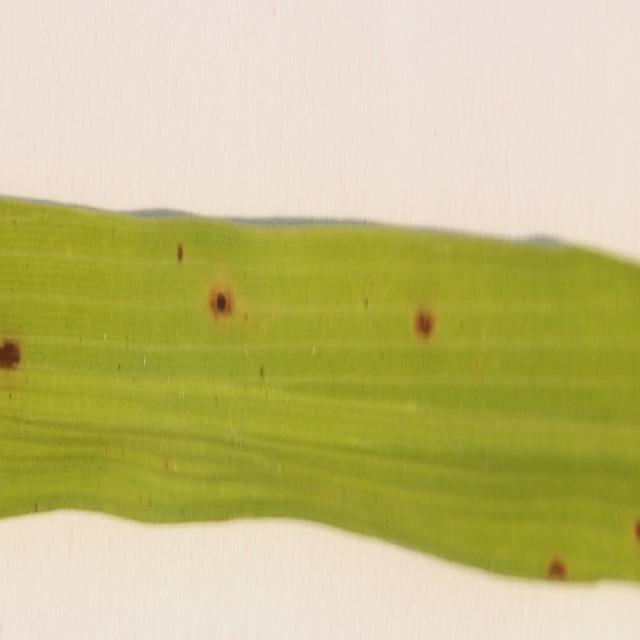brown spot: (200, 263, 248, 341), (0, 309, 31, 393), (408, 291, 443, 358), (545, 546, 572, 596), (630, 500, 640, 547)
